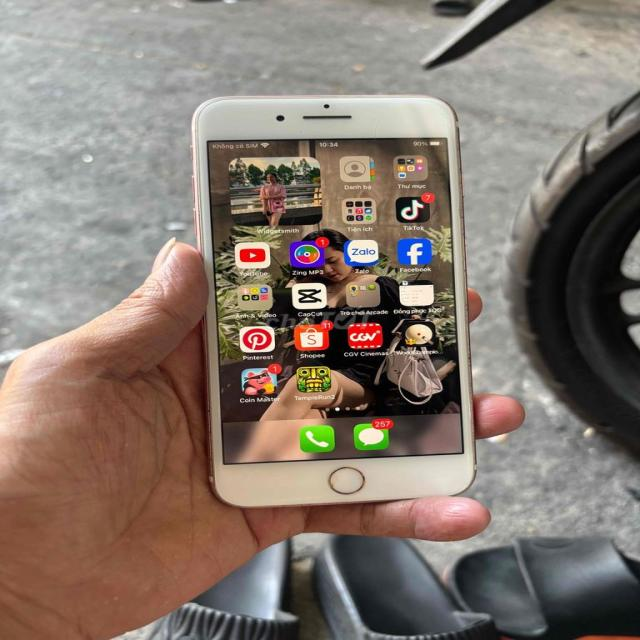scratch: (321, 461, 371, 498)
